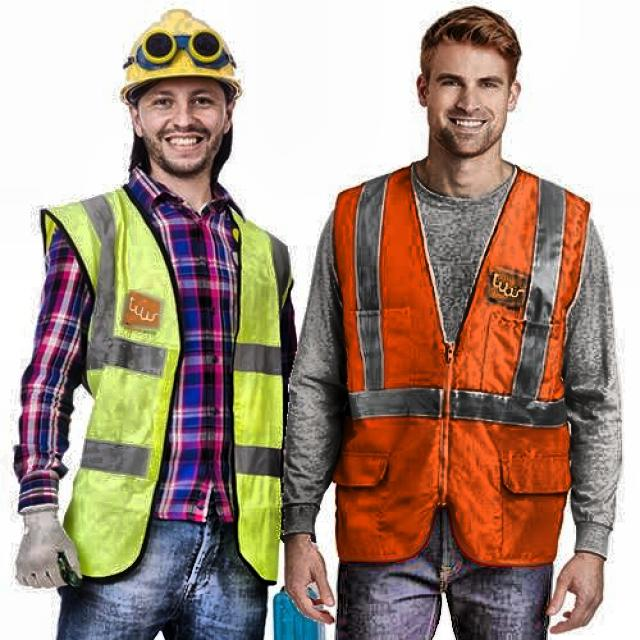safety_helmet: (104, 13, 256, 101)
safety_jacket: (332, 147, 596, 538), (67, 182, 289, 601)
